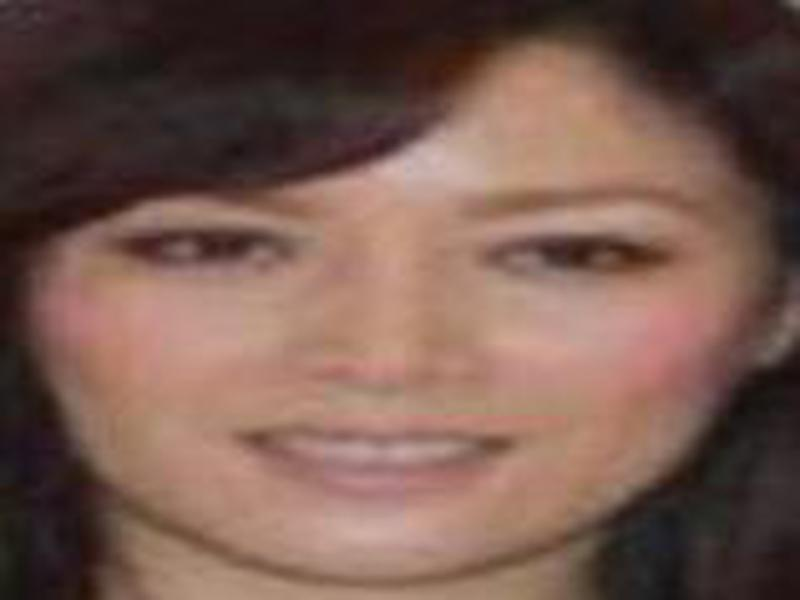without_mask: (21, 140, 761, 585)
